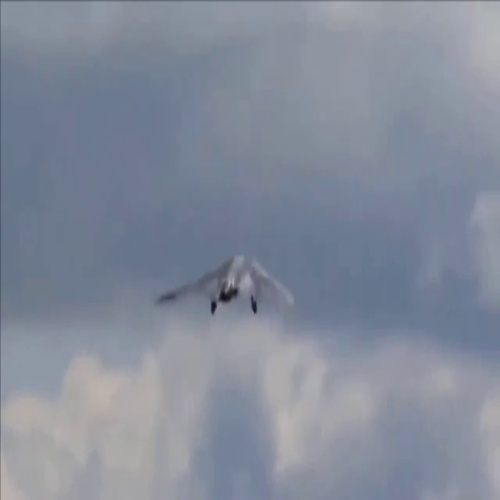uav: (151, 249, 299, 318)
